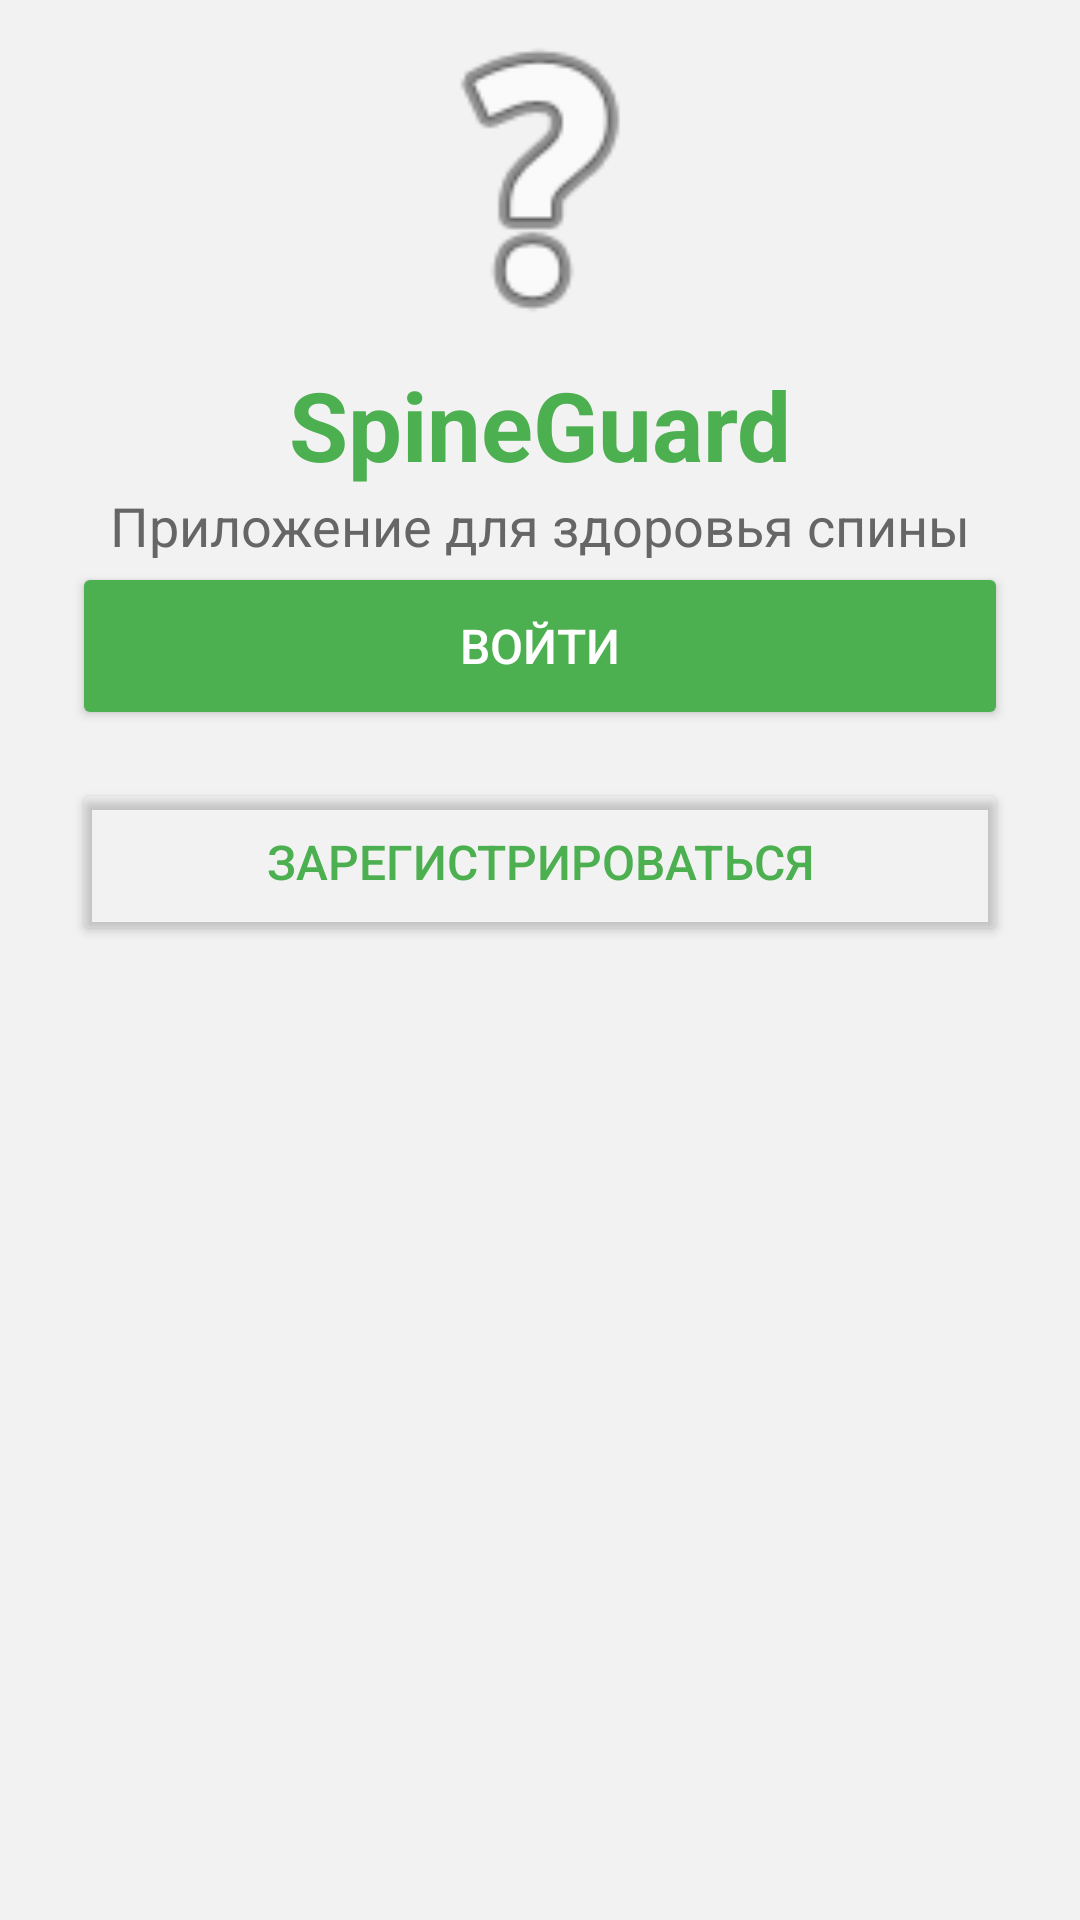

Screen size 1080×1920. Icon name, then its center in pixels as (x,y):
help: (540,180)
